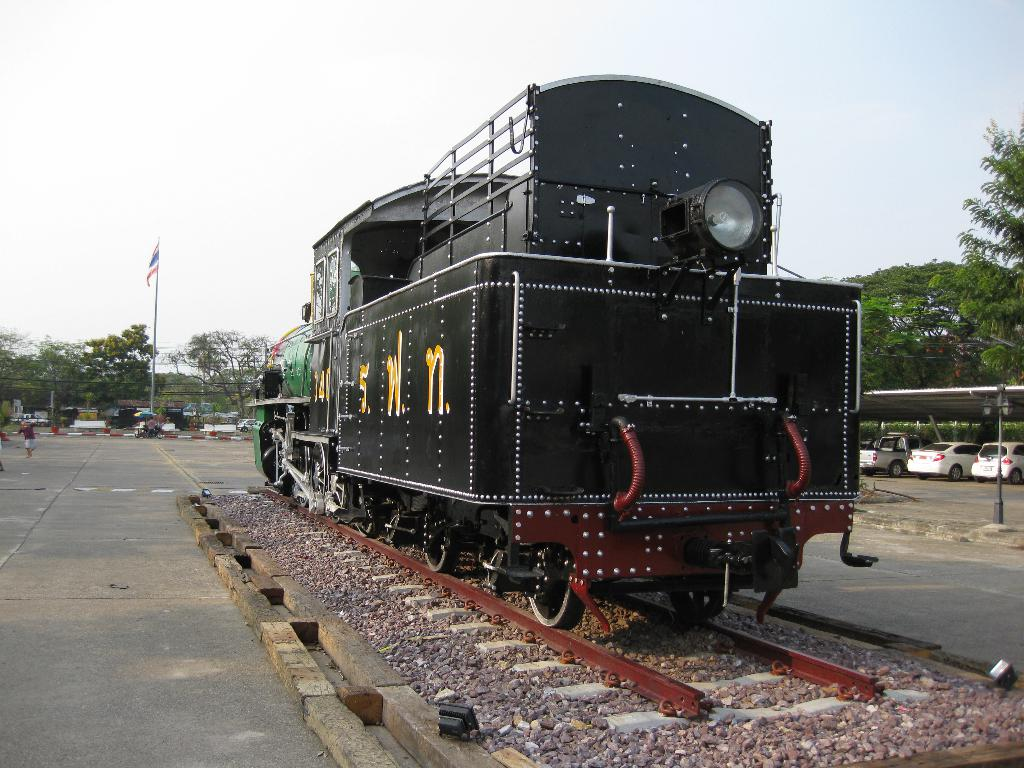car: (902, 433, 986, 492), (853, 423, 922, 484), (970, 434, 1024, 490)
